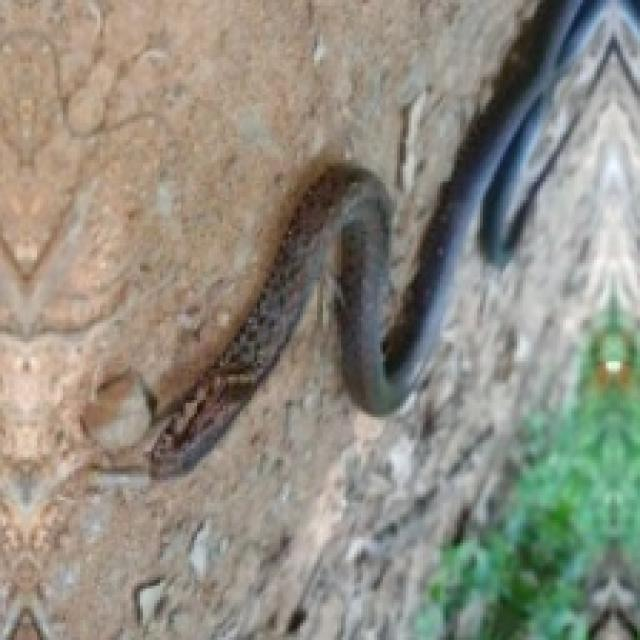reinhardts lined snake: (126, 0, 637, 477)
